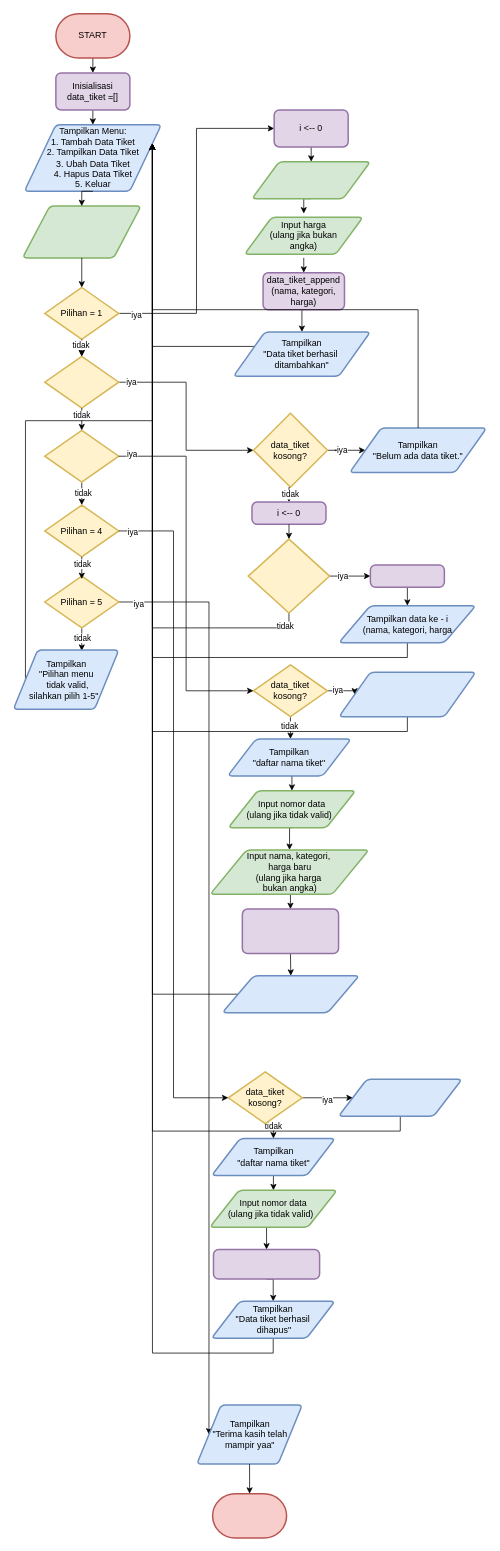
This 500x1551 diagram has some shape labels left out. Each missing label, with the centre of its shape:
data_tiket.pop(nomor-1): pixel 266 1263
data_tiket[nomor-1] <--(nama_baru, kategori_baru, harga_baru): pixel 290 931
END: pixel 249 1515
i <-- i + 1: pixel 407 576
i<len(data_tiket): pixel 288 575
Input nama, kategori: pixel 311 180
Input pilihan_menu: pixel 81 231
Pilihan = 2: pixel 81 381
Pilihan = 3: pixel 81 455
Tampilkan "Belum ada data tiket yang dapat diubah...": pixel 407 694
Tampilkan "Belum ada data yang dapat dihapus": pixel 399 1097
Tampilkan "Data tiket berhasil diubah": pixel 290 994
